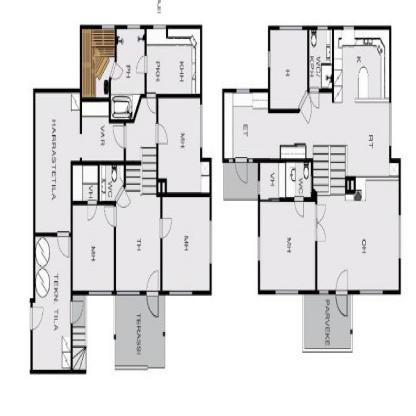door: (145, 266, 160, 324), (334, 266, 350, 320), (314, 202, 327, 246), (298, 91, 312, 126), (234, 156, 249, 185), (114, 186, 132, 210), (158, 217, 174, 244), (108, 58, 124, 84), (28, 305, 44, 331), (57, 231, 70, 261), (154, 123, 170, 147), (112, 124, 127, 149), (103, 203, 116, 230), (69, 299, 83, 324), (309, 85, 321, 110), (294, 195, 305, 219), (146, 89, 156, 115), (136, 54, 148, 75), (86, 201, 97, 220)
window: (116, 288, 139, 299), (275, 288, 298, 296), (398, 216, 402, 260), (168, 291, 191, 298), (360, 289, 383, 296), (209, 222, 213, 262), (90, 290, 112, 297), (280, 24, 302, 31), (200, 104, 203, 149), (235, 87, 250, 96), (318, 23, 328, 34), (154, 22, 166, 31), (257, 236, 261, 263), (127, 22, 140, 30), (102, 24, 115, 31), (318, 288, 327, 298), (389, 102, 391, 145), (344, 23, 353, 30), (268, 50, 271, 70)
zone: (220, 28, 398, 174), (35, 93, 126, 230), (316, 179, 397, 287), (115, 167, 162, 289), (158, 97, 211, 191), (34, 237, 71, 365), (162, 194, 210, 292), (261, 201, 314, 289), (115, 295, 165, 368), (72, 204, 113, 291), (146, 29, 200, 94), (271, 31, 309, 112), (303, 293, 350, 348), (82, 30, 117, 100), (115, 27, 145, 90), (310, 28, 332, 86), (223, 162, 258, 198), (70, 161, 98, 201), (98, 161, 124, 202), (286, 165, 311, 197), (261, 164, 285, 196)
